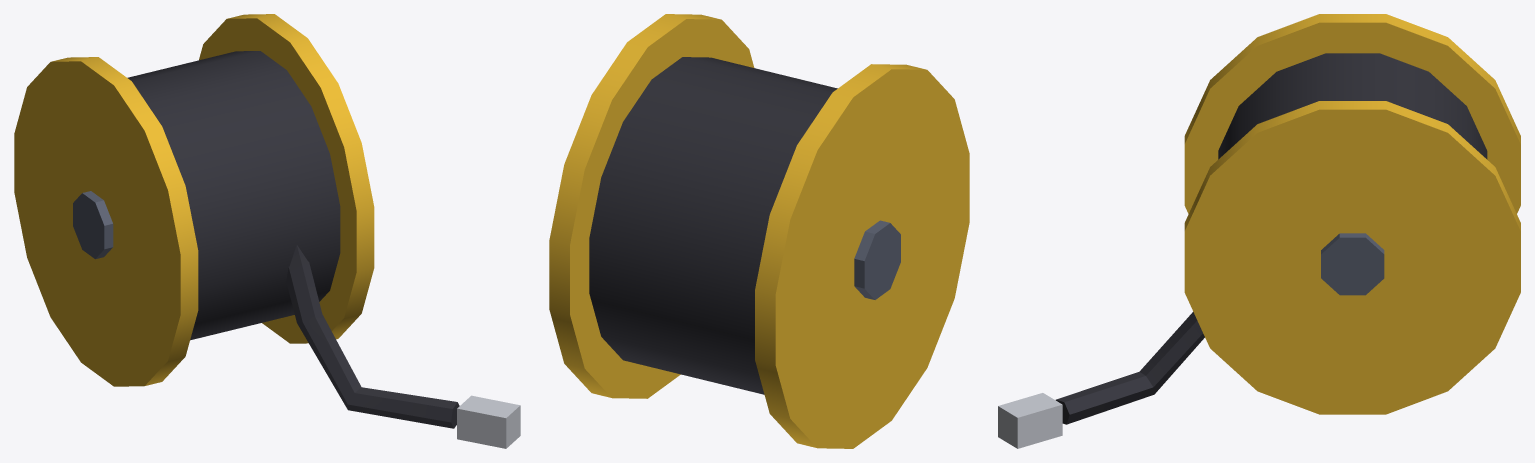
Rendered from sci-cable-spool.glb.
The picture shows the model from 3 angles, left to right: view 1: azimuth 30°, elevation 25°; view 2: azimuth 150°, elevation 25°; view 3: azimuth 270°, elevation 25°; orthographic projection. The views are drawn at different scales.
Parts seen in each view (by area): view 1: Spool flanges, Spool cable, Spool plug, Spool hub; view 2: Spool flanges, Spool cable, Spool hub; view 3: Spool flanges, Spool cable, Spool hub, Spool plug.
Boxes of the visible parts, <box> form: Spool flanges: <box>14,14,374,386</box>; Spool cable: <box>127,51,459,428</box>; Spool plug: <box>457,395,520,448</box>; Spool hub: <box>73,191,113,259</box>; Spool flanges: <box>549,14,969,448</box>; Spool cable: <box>589,57,837,394</box>; Spool hub: <box>854,220,900,299</box>; Spool flanges: <box>1184,14,1520,414</box>; Spool cable: <box>1056,53,1487,424</box>; Spool hub: <box>1321,233,1384,295</box>; Spool plug: <box>998,393,1062,448</box>.
Size of the model in its own units: 0.9068 by 0.9904 by 1.52.
